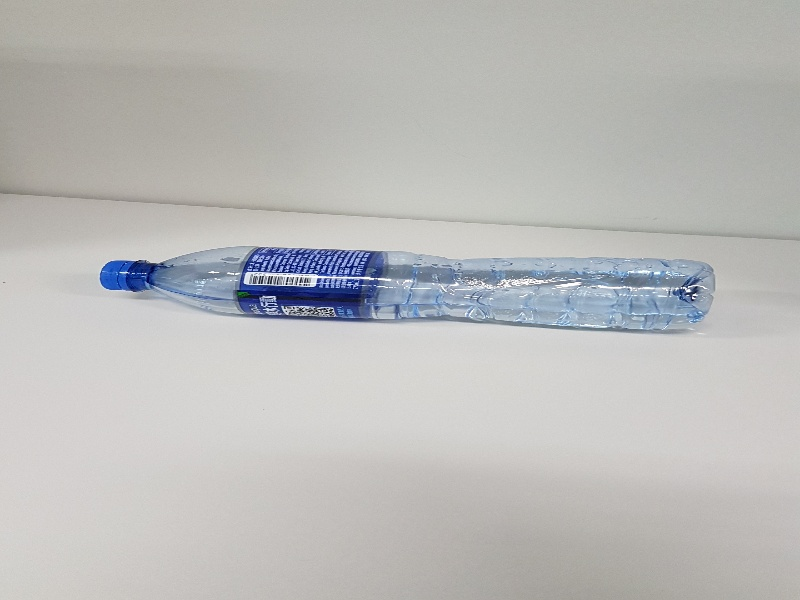Bottle: (98, 245, 718, 335)
